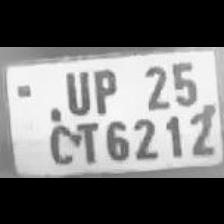1: (160, 108, 184, 160)
2: (188, 100, 218, 158), (139, 61, 171, 109), (132, 113, 160, 161)
5: (167, 56, 199, 106)
6: (100, 116, 130, 160)
C: (43, 116, 76, 162)
P: (89, 64, 119, 114)
T: (72, 118, 100, 164)
U: (61, 64, 91, 114)
